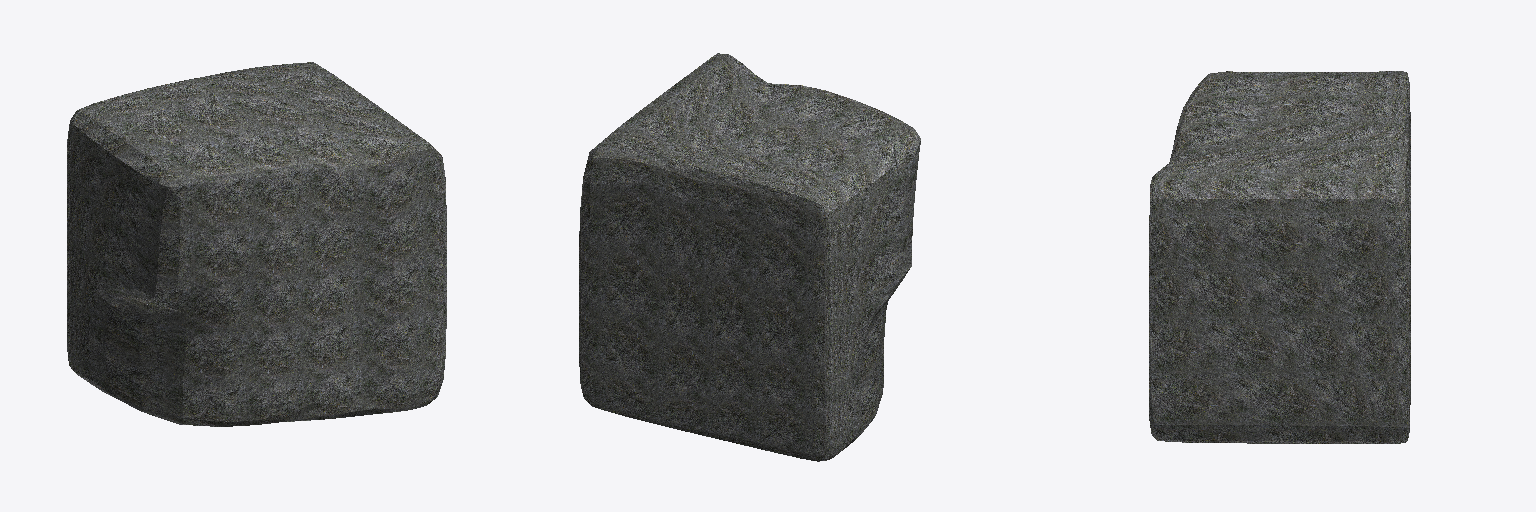
3 views of the same model, side by side, from view 1: azimuth 30°, elevation 25°; view 2: azimuth 150°, elevation 25°; view 3: azimuth 270°, elevation 25° (orthographic).
Visible parts, largest first — view 1: pCube1; view 2: pCube1; view 3: pCube1.
Part boxes in pixels (left/top/right/bottom): pCube1: left=67, top=62, right=446, bottom=426; pCube1: left=579, top=53, right=920, bottom=461; pCube1: left=1149, top=71, right=1410, bottom=443.
Bounding box in the file's own units: 14.65 × 14.78 × 12.99.
Materials: 1 (1 with a texture image).